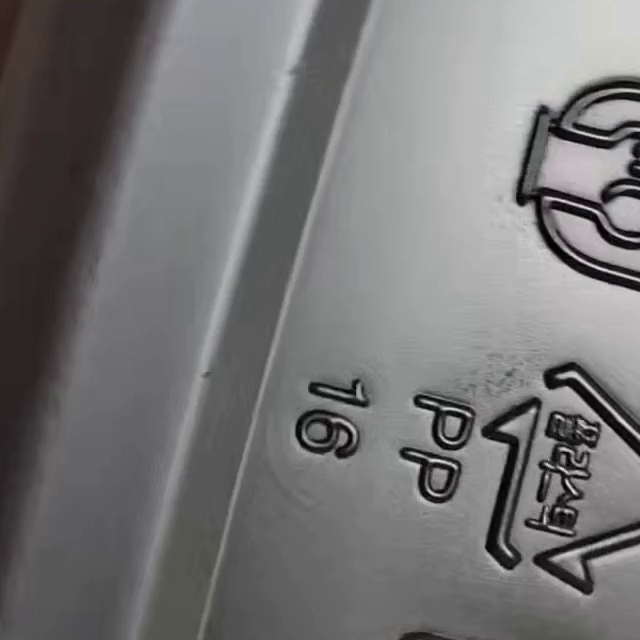Plastic: (481, 364, 639, 599)
